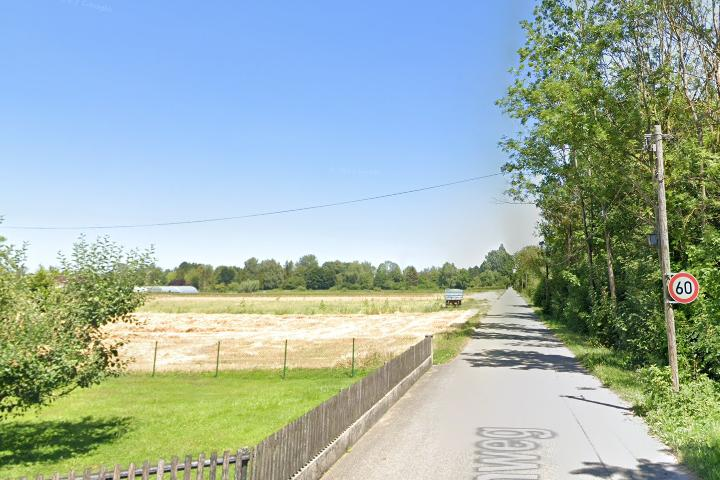traffic_sign: (668, 272, 700, 303)
